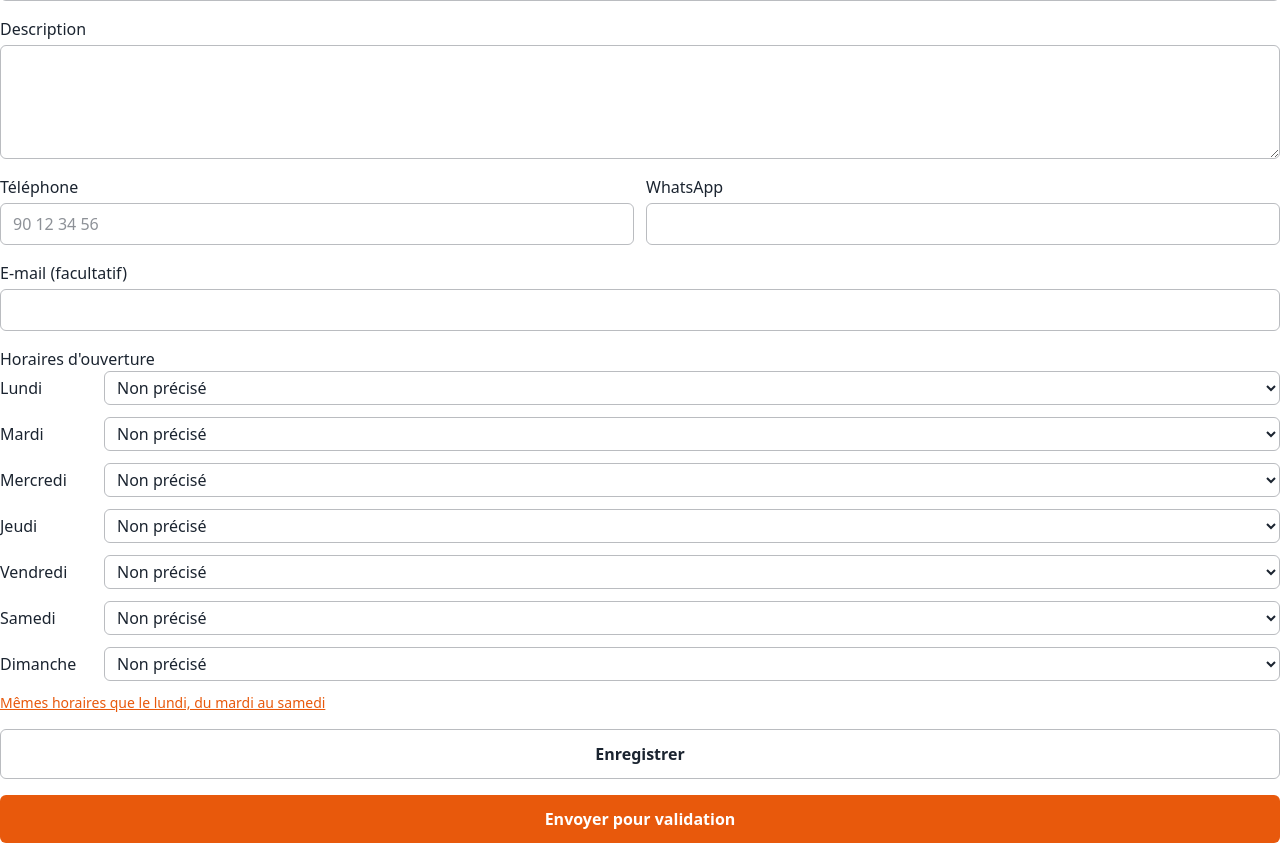
DetailsForm › saves without sending
(page scrolled)
Click the button "Enregistrer": (640, 754) [0, 729, 1279, 779]
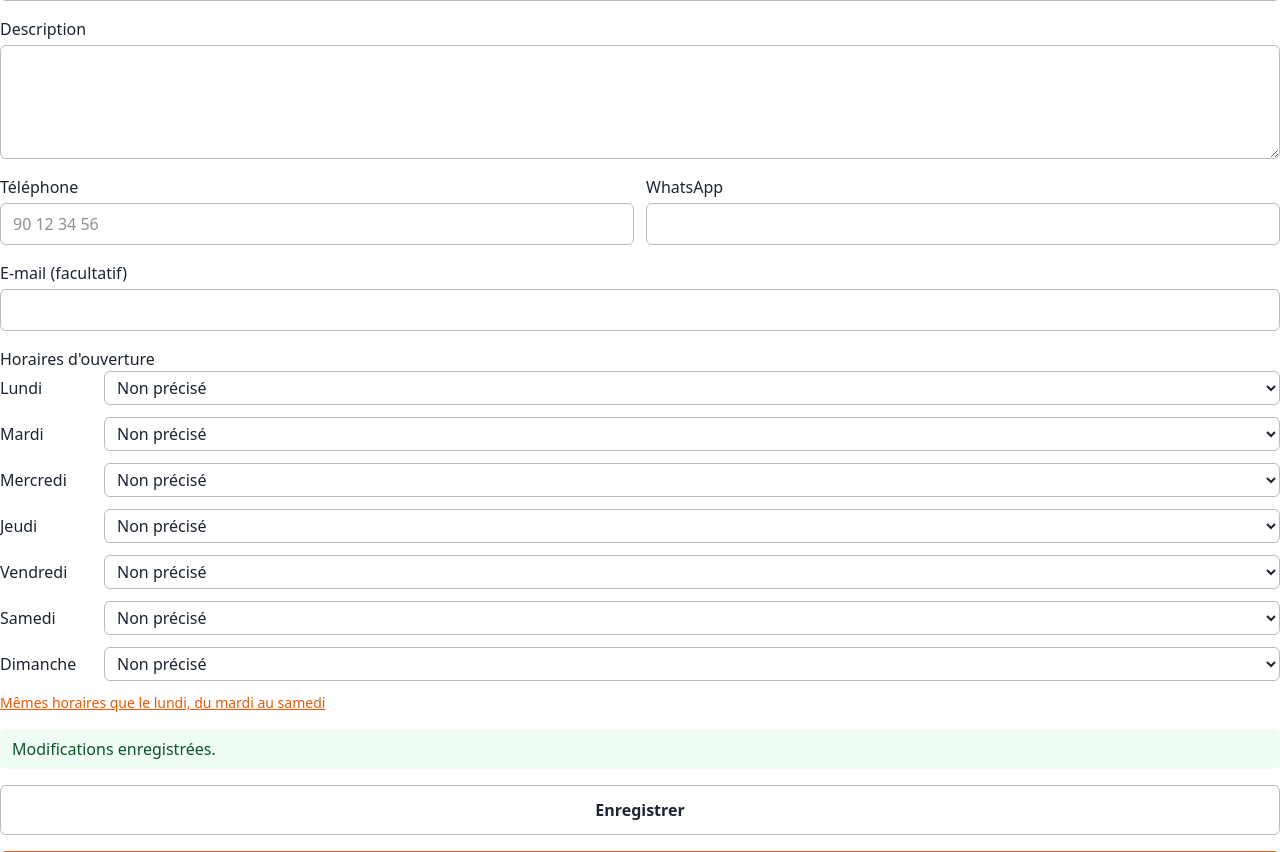
Expected: the message reads "Modifications enregistrées.", [12, 738, 216, 760]
